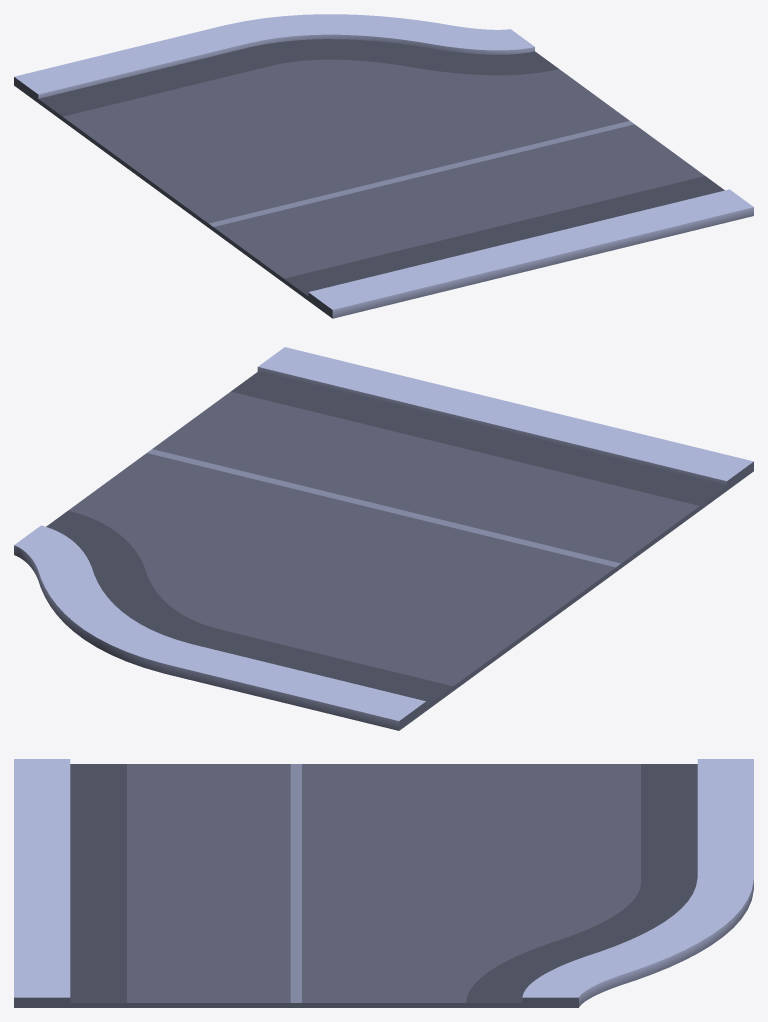
The model's file is road-side-entry.glb.
3 renders of one model, top to bottom at view 1: azimuth 30°, elevation 25°; view 2: azimuth 150°, elevation 25°; view 3: azimuth 270°, elevation 25°, orthographic. The views are drawn at different scales.
Parts seen in each view (by area): view 1: road-side-entry; view 2: road-side-entry; view 3: road-side-entry.
Part boxes in pixels (<box>): road-side-entry: <box>14,14,753,318</box>; road-side-entry: <box>14,347,753,730</box>; road-side-entry: <box>14,759,753,1007</box>.
Size of the model in its own units: 1 by 0.02 by 1.31.
1 material, 1 textured.
